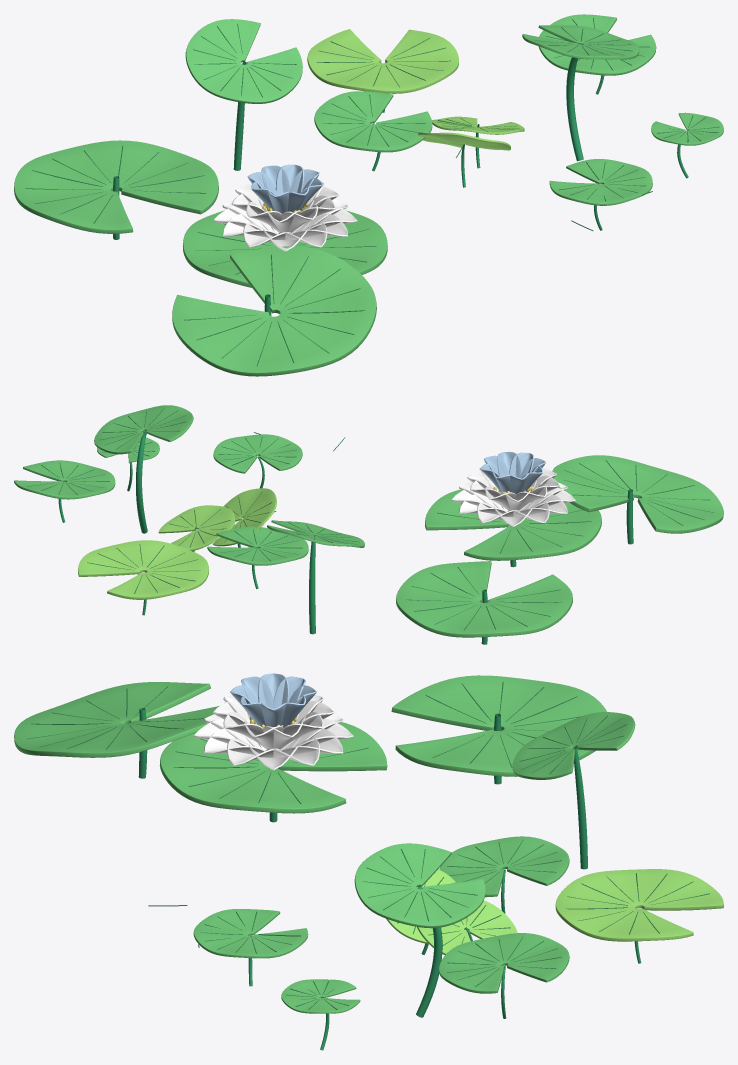
File: 01_lotus_and_lilypads_001.glb
3 views of the same model, one above another, from view 1: azimuth 30°, elevation 25°; view 2: azimuth 150°, elevation 25°; view 3: azimuth 270°, elevation 25° (orthographic). The views are drawn at different scales.
Parts seen in each view (by area): view 1: LotusPad.004, LotusPad.005, LilyPad_02.001, LilyPad_01.002, LotusPad.001, LilyPad_01.008, LilyPad_03.001, LilyPad_01.001, LilyPad_01.007, LilyPad_05.001, LilyPad_04.002, LilyPad_04.001 (+3 smaller); view 2: LotusPad.005, LotusPad.004, LotusPad.001, LilyPad_02.001, LilyPad_01.007, LilyPad_01.001, LilyPad_01.008, LilyPad_03.001, LilyPad_04.002, LilyPad_04.001, LilyPad_01.002, PadStem_01.003 (+4 smaller); view 3: LotusPad.005, LotusPad.004, LotusPad.001, LilyPad_02.001, LilyPad_01.007, LilyPad_01.001, LilyPad_01.008, LilyPad_01.002, LilyPad_03.001, LilyPad_05.001, LilyPad_04.002, PadStem_01.002 (+4 smaller).
Boxes of the visible parts, bbox=[...] form: LotusPad.004: bbox=[172, 246, 376, 376]; LotusPad.005: bbox=[14, 140, 218, 233]; LilyPad_02.001: bbox=[307, 29, 458, 93]; LilyPad_01.002: bbox=[185, 19, 302, 103]; LotusPad.001: bbox=[182, 210, 387, 287]; LilyPad_01.008: bbox=[314, 91, 432, 152]; LilyPad_03.001: bbox=[549, 159, 652, 205]; LilyPad_01.001: bbox=[538, 14, 656, 75]; LilyPad_01.007: bbox=[522, 25, 639, 59]; LilyPad_05.001: bbox=[651, 112, 723, 145]; LilyPad_04.002: bbox=[432, 116, 524, 134]; LilyPad_04.001: bbox=[418, 132, 510, 150]; LotusPad.005: bbox=[396, 561, 572, 637]; LotusPad.004: bbox=[552, 455, 723, 533]; LotusPad.001: bbox=[425, 489, 601, 560]; LilyPad_02.001: bbox=[78, 540, 209, 599]; LilyPad_01.007: bbox=[94, 405, 193, 454]; LilyPad_01.001: bbox=[14, 460, 115, 499]; LilyPad_01.008: bbox=[207, 526, 308, 565]; LilyPad_03.001: bbox=[213, 434, 302, 473]; LilyPad_04.002: bbox=[158, 505, 235, 550]; LilyPad_04.001: bbox=[212, 488, 276, 546]; LilyPad_01.002: bbox=[267, 520, 364, 547]; PadStem_01.003: bbox=[136, 431, 147, 533]; LotusPad.005: bbox=[391, 675, 606, 776]; LotusPad.004: bbox=[14, 682, 219, 757]; LotusPad.001: bbox=[159, 722, 387, 813]; LilyPad_02.001: bbox=[555, 869, 723, 941]; LilyPad_01.007: bbox=[354, 843, 485, 928]; LilyPad_01.001: bbox=[439, 933, 569, 993]; LilyPad_01.008: bbox=[439, 836, 569, 897]; LilyPad_01.002: bbox=[512, 712, 635, 779]; LilyPad_03.001: bbox=[193, 909, 308, 958]; LilyPad_05.001: bbox=[281, 979, 360, 1013]; LilyPad_04.002: bbox=[417, 900, 517, 954]; PadStem_01.002: bbox=[572, 747, 587, 869].
Bounding box in the file's own units: 9.61 × 2 × 8.43.
